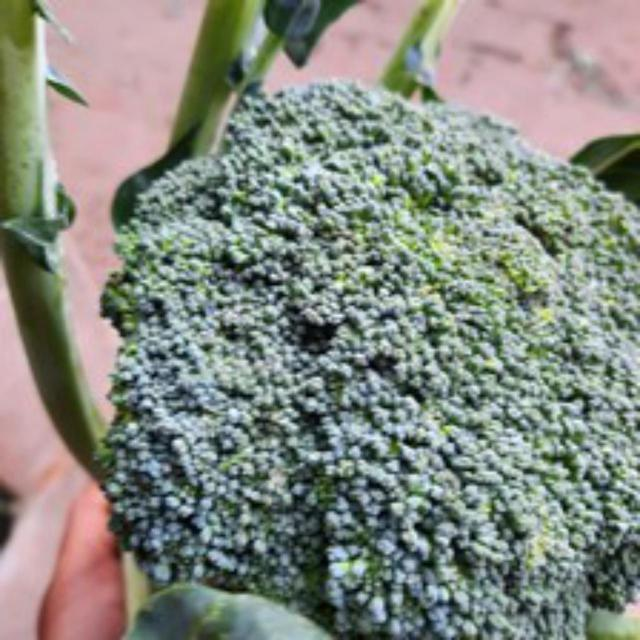broccoli: (108, 74, 637, 637)
